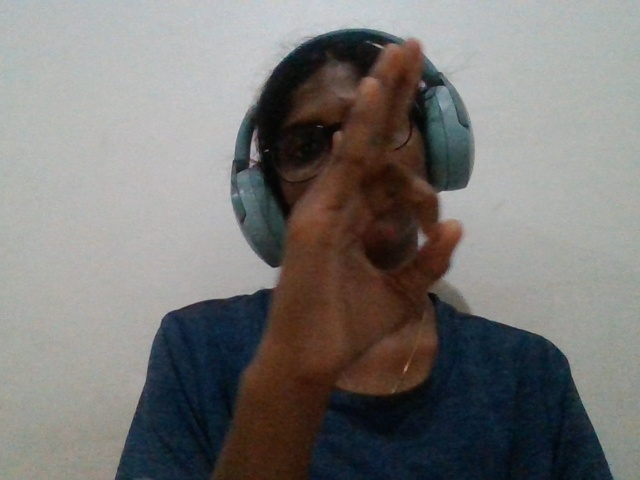F: (193, 29, 488, 478)
